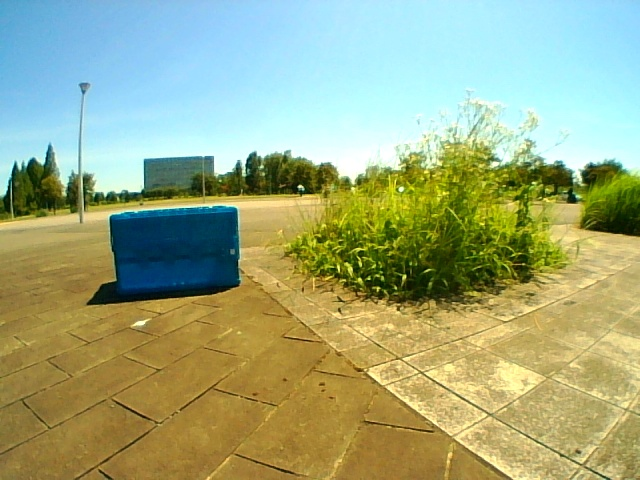blue_box: (116, 212, 237, 285)
